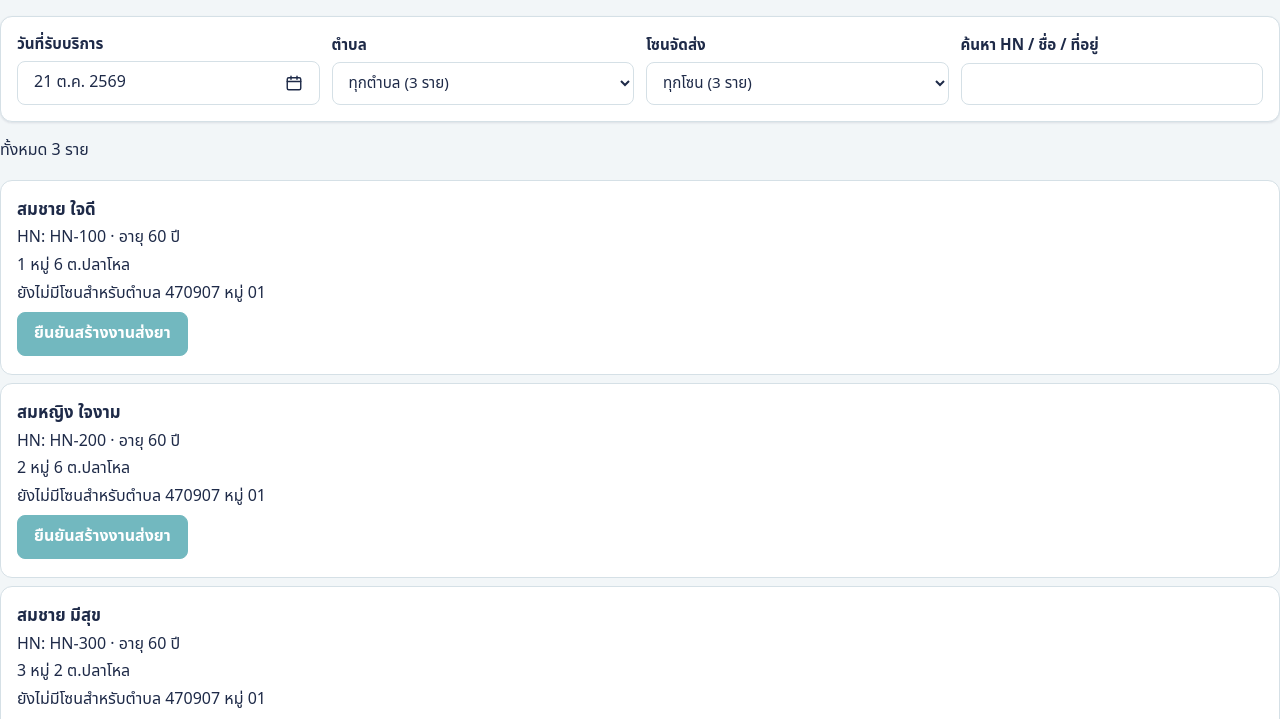
Test: narrows a long day to the patients matching every search word
The image size is (1280, 719).
Expected: the text "ทั้งหมด 3 ราย" is shown, [0,138,89,162]
In the search field: (1112, 84) [960,63,1263,105], type "สมชาย หมู่ 6"
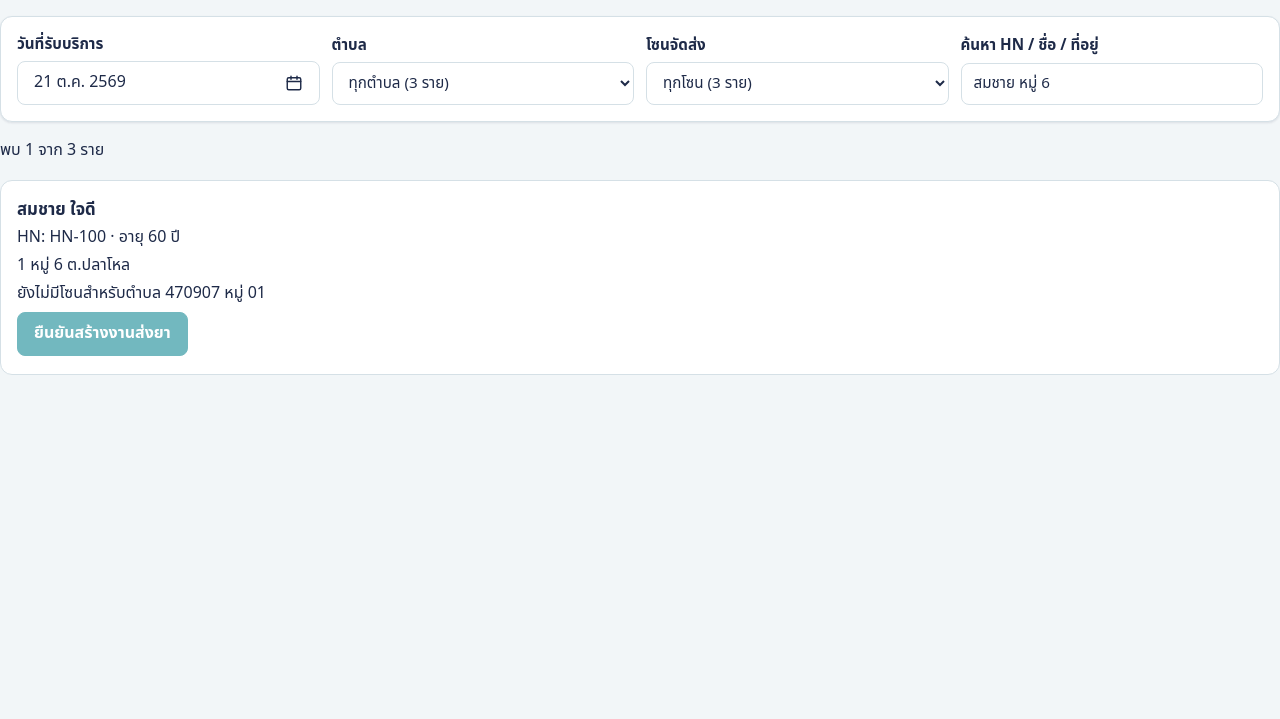
Expected: the heading "สมชาย ใจดี" is shown, [17,196,96,222]
Expected: the text "พบ 1 จาก 3 ราย" is shown, [0,138,104,162]
Expected: the heading "สมชาย มีสุข" is gone
Replace the text in the search field with "HN-200": (1112, 84) [960,63,1263,105]
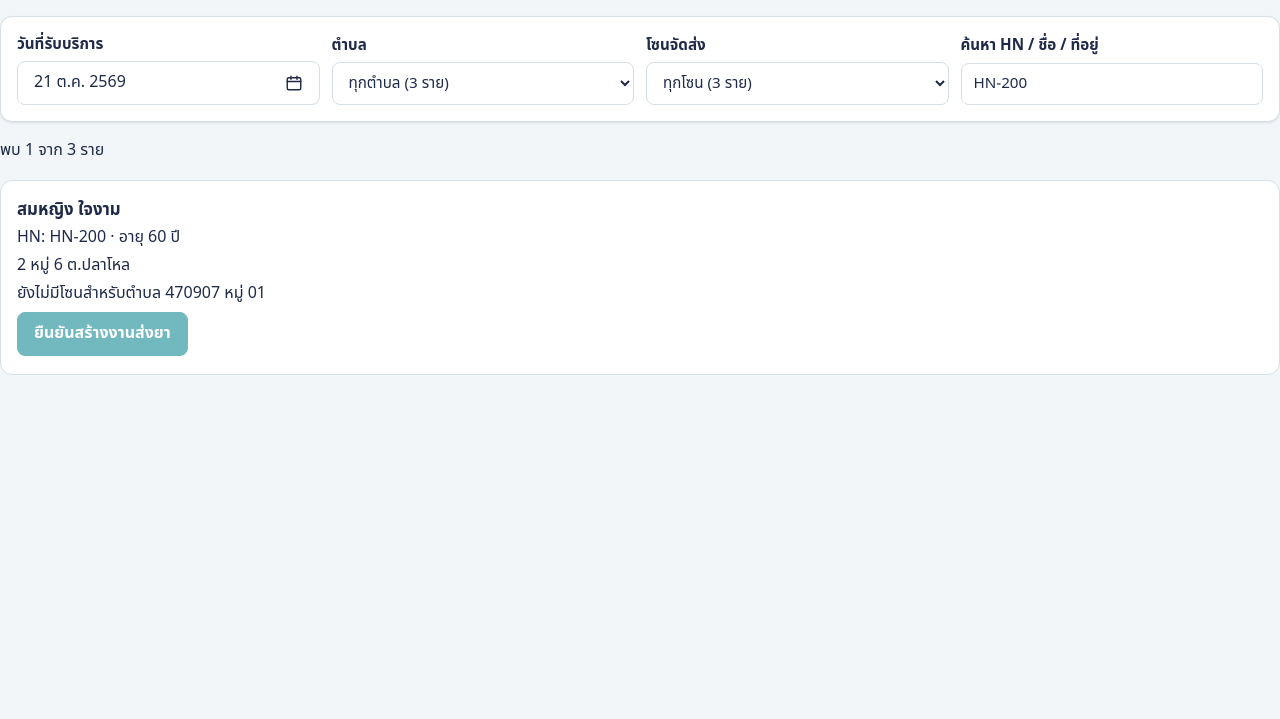
Expected: the text "พบ 1 จาก 3 ราย" is shown, [0,138,104,162]
Expected: the heading "สมหญิง ใจงาม" is shown, [17,196,121,222]
